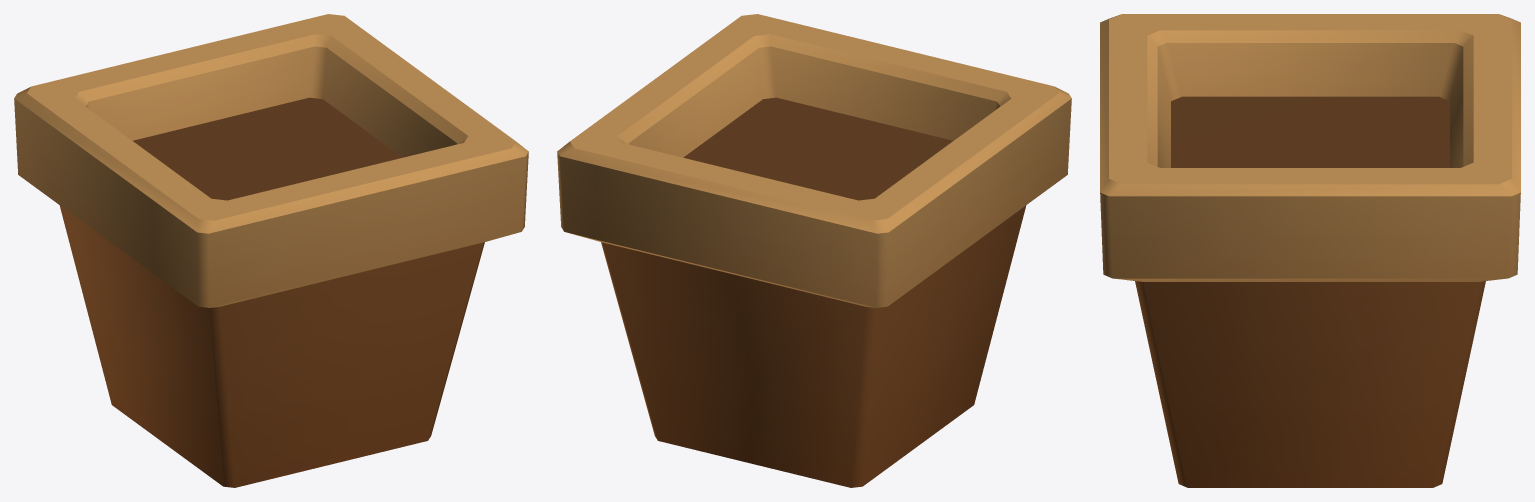
Rendered from PlantPot_1_A.glb.
3 views of the same model, side by side, from view 1: azimuth 30°, elevation 25°; view 2: azimuth 150°, elevation 25°; view 3: azimuth 270°, elevation 25° (orthographic). The views are drawn at different scales.
Parts seen in each view (by area): view 1: PlantPot_1_A; view 2: PlantPot_1_A; view 3: PlantPot_1_A.
Boxes of the visible parts, x1,y1,x2,y2 form: PlantPot_1_A: [14, 14, 528, 487]; PlantPot_1_A: [557, 14, 1071, 487]; PlantPot_1_A: [1100, 14, 1520, 487].
Bounding box in the file's own units: 0.2748 × 0.24 × 0.2748.
Materials: 1 (1 with a texture image).
